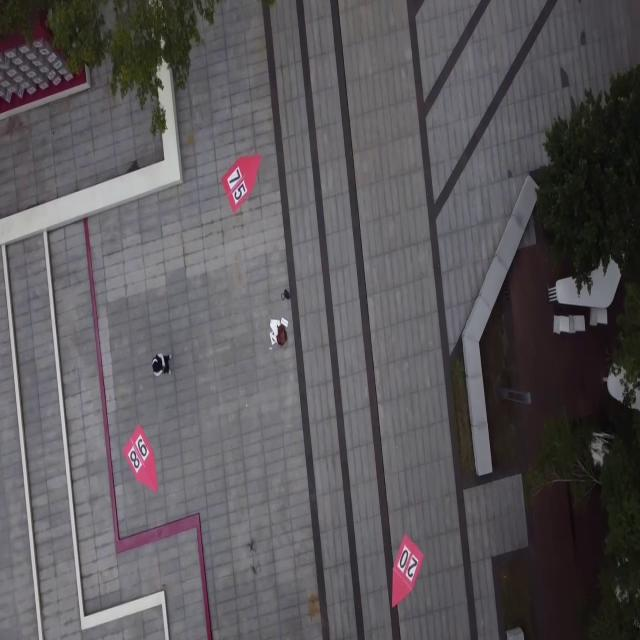-sign-: (0, 6, 90, 124), (221, 152, 262, 215), (122, 424, 159, 492), (391, 534, 424, 608)
